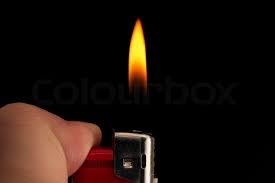Fire: (121, 13, 152, 98)
